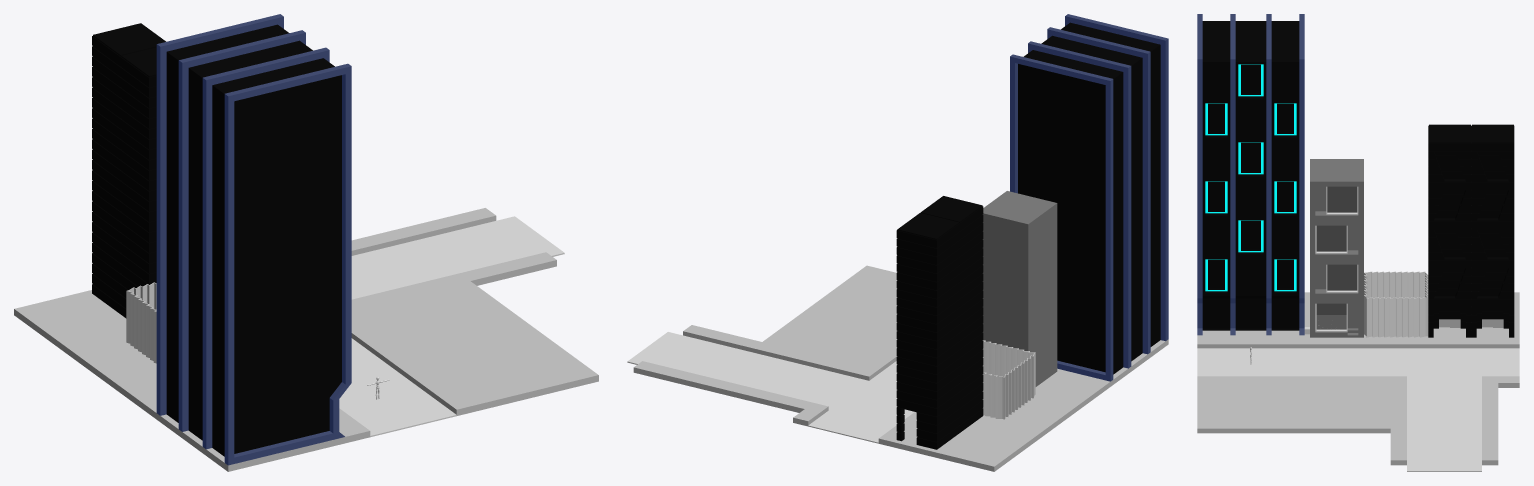
File: Buildings.fbx
3 views of the same model, side by side, from view 1: azimuth 30°, elevation 25°; view 2: azimuth 150°, elevation 25°; view 3: azimuth 270°, elevation 25° (orthographic). The views are drawn at different scales.
Visible parts, largest first — view 1: 大樓10_10, 平地R, 平地L, 店家4_4, 店家4_4_1, 馬路_1, 馬路_2, 人行道R, 人行道L_1, 人行道R_1, 施工地6_6; view 2: 大樓10_10, 店家4_4_1, 店家5_5, 平地L, 平地R, 馬路_1, 店家4_4, 施工地6_6, 人行道R_1, 人行道L_1, 馬路, 馬路_3; view 3: 大樓10_10, 平地R, 店家5_5, 店家4_4_1, 店家4_4, 馬路_1, 馬路_2, 施工地6_6, 人行道L, 平地L, 馬路, 人行道R_1 (+3 smaller).
Boxes of the visible parts, x1,y1,x2,y2 form: 大樓10_10: [156, 14, 351, 465]; 平地R: [351, 281, 598, 411]; 平地L: [14, 290, 351, 471]; 店家4_4: [120, 47, 156, 318]; 店家4_4_1: [92, 23, 165, 313]; 馬路_1: [351, 216, 564, 299]; 馬路_2: [339, 338, 456, 437]; 人行道R: [351, 315, 475, 415]; 人行道L_1: [351, 252, 556, 309]; 人行道R_1: [351, 208, 496, 255]; 施工地6_6: [126, 282, 156, 363]; 大樓10_10: [1010, 14, 1168, 381]; 店家4_4_1: [896, 213, 959, 449]; 店家5_5: [982, 191, 1057, 386]; 平地L: [893, 339, 1168, 471]; 平地R: [763, 265, 897, 366]; 馬路_1: [627, 332, 868, 409]; 店家4_4: [920, 196, 983, 432]; 施工地6_6: [982, 340, 1035, 419]; 人行道R_1: [633, 361, 812, 412]; 人行道L_1: [683, 325, 862, 376]; 馬路: [829, 381, 914, 426]; 馬路_3: [808, 410, 894, 443]; 大樓10_10: [1197, 14, 1304, 335]; 平地R: [1197, 383, 1390, 433]; 店家5_5: [1310, 159, 1363, 337]; 店家4_4_1: [1471, 124, 1514, 337]; 店家4_4: [1428, 124, 1471, 337]; 馬路_1: [1407, 380, 1481, 471]; 馬路_2: [1197, 348, 1406, 376]; 施工地6_6: [1364, 271, 1428, 337]; 人行道L: [1197, 337, 1519, 348]; 平地L: [1197, 292, 1519, 337]; 馬路: [1407, 348, 1481, 379]; 人行道R_1: [1482, 383, 1498, 465].
Bounding box in the file's own units: 3850 × 2905 × 3000.
